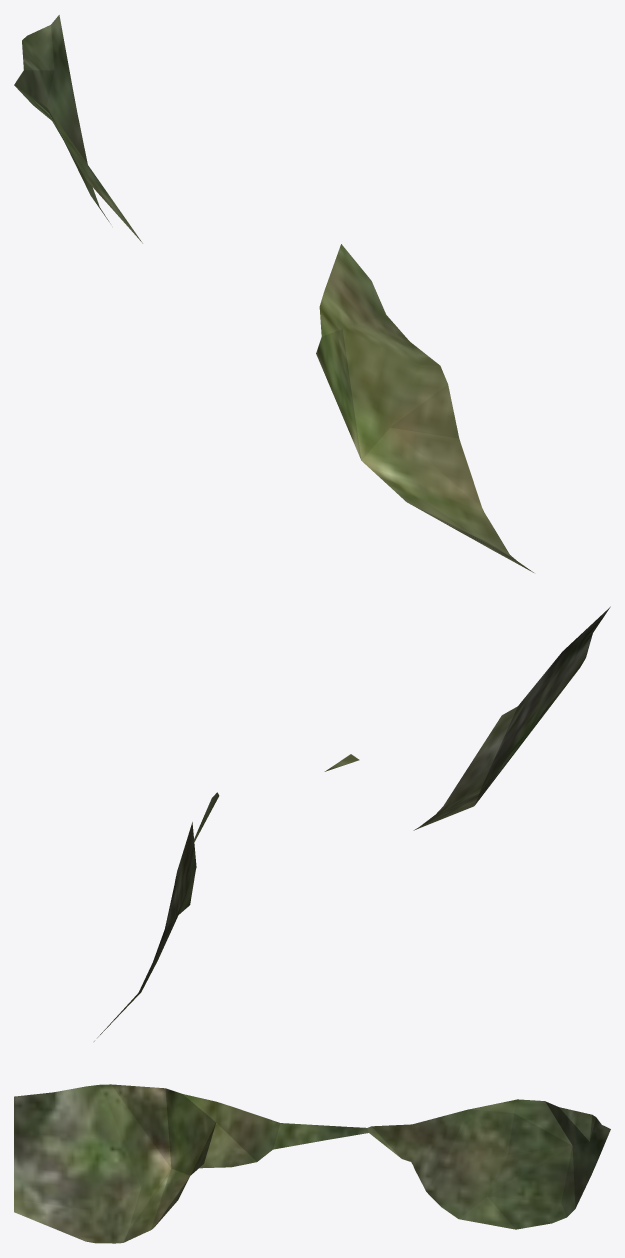
The picture shows the model from 3 angles, top to bottom: view 1: azimuth 30°, elevation 25°; view 2: azimuth 150°, elevation 25°; view 3: azimuth 270°, elevation 25°; orthographic projection. The views are drawn at different scales.
Size of the model in its own units: 0.6572 by 0.7834 by 3.71.
Materials: 1 (1 with a texture image).
